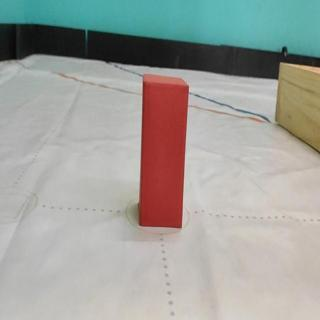redbox: (140, 75, 190, 228)
